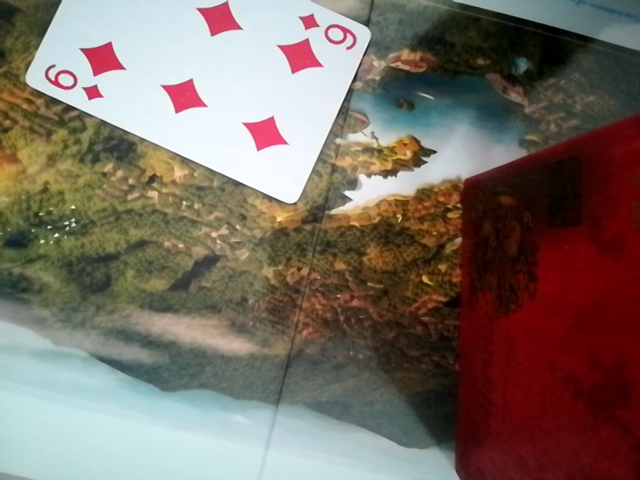fk 6: (26, 2, 377, 205)
